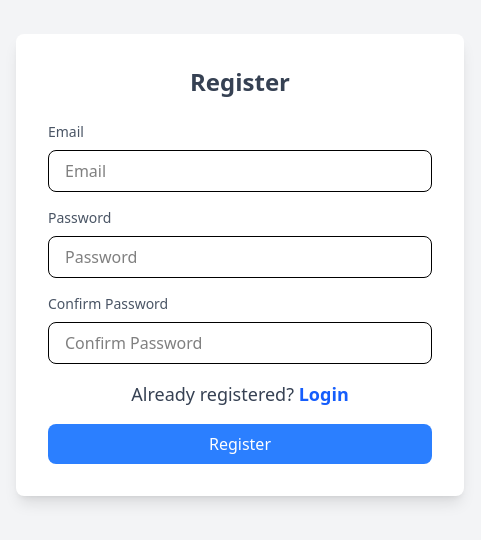
Test: Register Component › shows a generic error message on registration failure
Type "used@example.com" into the field with placeholder "Email". click: [240, 171]
box: [48,150,432,192]
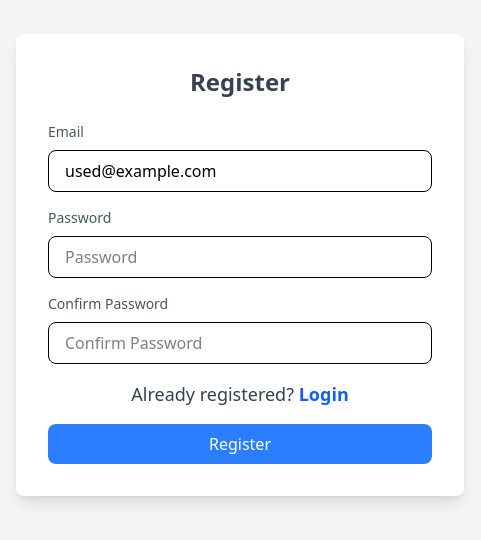
Type "Password123!" into the password field with placeholder "Password". click: [240, 257]
box: [48,236,432,278]
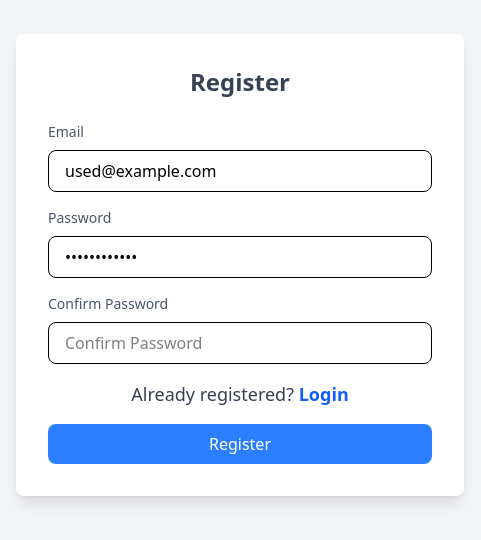
Type "Password123!" into the password field with placeholder "Confirm Password". click: [240, 343]
box: [48,322,432,364]
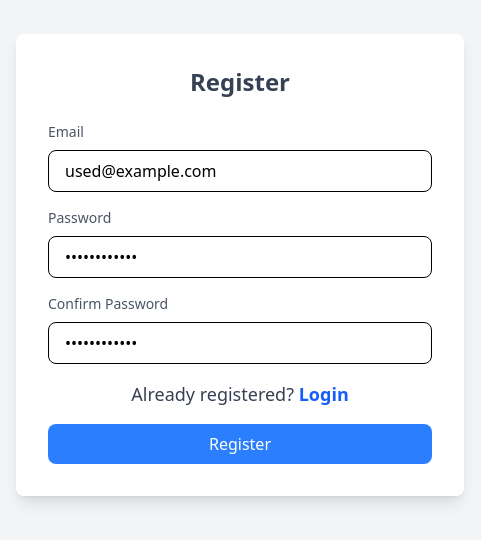
Click the button "Register". click: [240, 444]
box: [48,424,432,464]
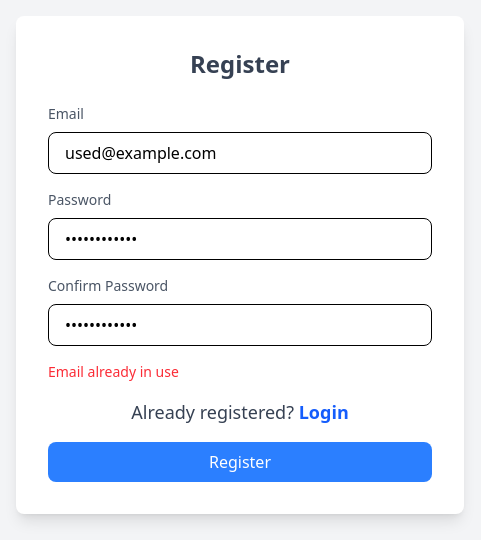
Result: the text "Email already in use" is shown at [48,362,179,381]
